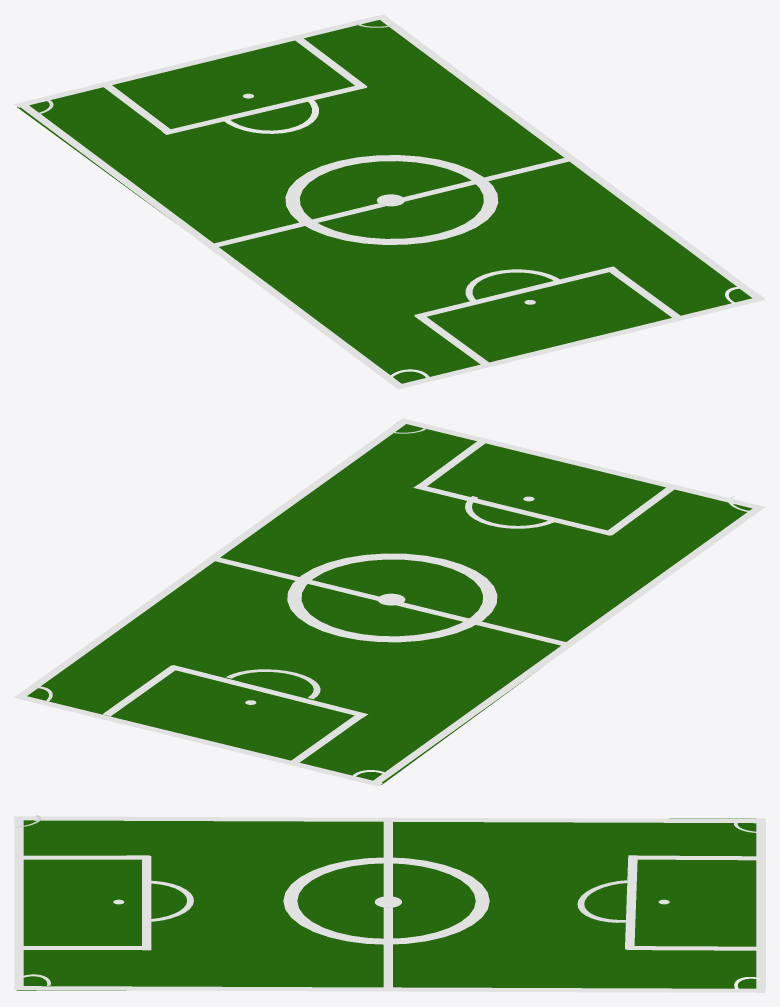
Rendered from futbol_sahasi.glb.
3 views of the same model, one above another, from view 1: azimuth 30°, elevation 25°; view 2: azimuth 150°, elevation 25°; view 3: azimuth 270°, elevation 25° (orthographic). The views are drawn at different scales.
Visible parts, largest first — view 1: Plane_2, Circle_4, Plane.011_20, Plane.010_19, Plane.009_18, Plane.008_17, Plane.001_3, Plane.005_8, Plane.004_5; view 2: Plane_2, Circle_4, Plane.011_20, Plane.010_19, Plane.009_18, Plane.008_17, Plane.001_3, Plane.005_8, Plane.004_5; view 3: Plane_2, Circle_4, Plane.011_20, Plane.010_19, Plane.009_18, Plane.008_17, Plane.001_3, Plane.005_8, Plane.004_5, Plane.002_6, Plane.006_9, Plane.007_10 (+3 smaller).
Boxes of the visible parts, left/top/right/bottom form: Plane_2: left=17, top=20, right=751, bottom=383; Circle_4: left=285, top=155, right=498, bottom=244; Plane.011_20: left=376, top=14, right=765, bottom=301; Plane.010_19: left=17, top=102, right=406, bottom=389; Plane.009_18: left=14, top=15, right=381, bottom=107; Plane.008_17: left=398, top=298, right=765, bottom=388; Plane.001_3: left=207, top=156, right=574, bottom=248; Plane.005_8: left=162, top=84, right=366, bottom=134; Plane.004_5: left=415, top=266, right=617, bottom=317; Plane_2: left=27, top=422, right=752, bottom=784; Circle_4: left=287, top=553, right=497, bottom=642; Plane.011_20: left=14, top=418, right=410, bottom=699; Plane.010_19: left=370, top=505, right=765, bottom=782; Plane.009_18: left=20, top=695, right=382, bottom=786; Plane.008_17: left=398, top=418, right=761, bottom=509; Plane.001_3: left=209, top=556, right=572, bottom=646; Plane.005_8: left=173, top=665, right=367, bottom=717; Plane.004_5: left=413, top=484, right=614, bottom=535; Plane_2: left=16, top=818, right=756, bottom=990; Circle_4: left=283, top=857, right=489, bottom=944; Plane.011_20: left=14, top=986, right=765, bottom=992; Plane.010_19: left=14, top=816, right=764, bottom=823; Plane.009_18: left=756, top=818, right=765, bottom=989; Plane.008_17: left=14, top=818, right=23, bottom=989; Plane.001_3: left=383, top=818, right=392, bottom=989; Plane.005_8: left=625, top=855, right=637, bottom=949; Plane.004_5: left=142, top=856, right=151, bottom=950; Plane.002_6: left=17, top=855, right=149, bottom=859; Plane.006_9: left=626, top=946, right=758, bottom=950; Plane.007_10: left=628, top=855, right=760, bottom=860.
Size of the model in its own units: 11.73 by 0.1858 by 21.13.
